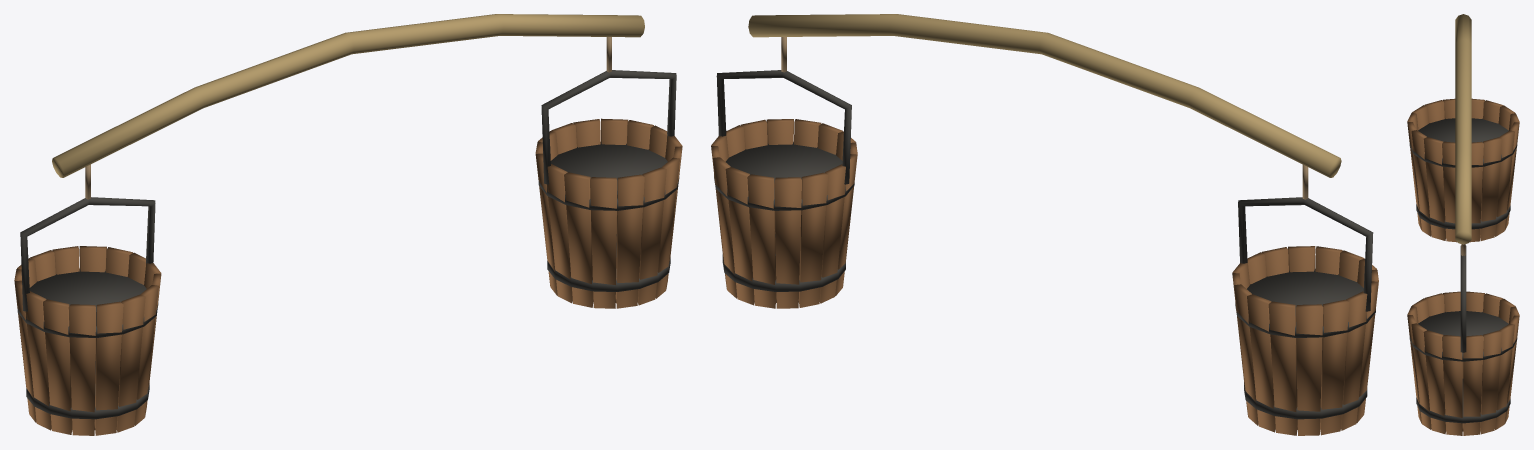
File: tavara-ampari.glb
The picture shows the model from 3 angles, left to right: view 1: azimuth 30°, elevation 25°; view 2: azimuth 150°, elevation 25°; view 3: azimuth 270°, elevation 25°; orthographic projection. The views are drawn at different scales.
Parts seen in each view (by area): view 1: bucket, bucket.001, Bent shoulder pole; view 2: bucket, bucket.001, Bent shoulder pole; view 3: bucket.001, bucket, Bent shoulder pole.
Part boxes in pixels (<box>): bucket: <box>14,197,161,435</box>; bucket.001: <box>535,70,682,308</box>; Bent shoulder pole: <box>52,14,644,177</box>; bucket: <box>1232,197,1378,435</box>; bucket.001: <box>711,70,857,308</box>; Bent shoulder pole: <box>748,14,1341,177</box>; bucket.001: <box>1407,245,1519,435</box>; bucket: <box>1407,98,1519,242</box>; Bent shoulder pole: <box>1455,14,1471,244</box>.
Size of the model in its own units: 1.52 by 0.6946 by 0.2964.
